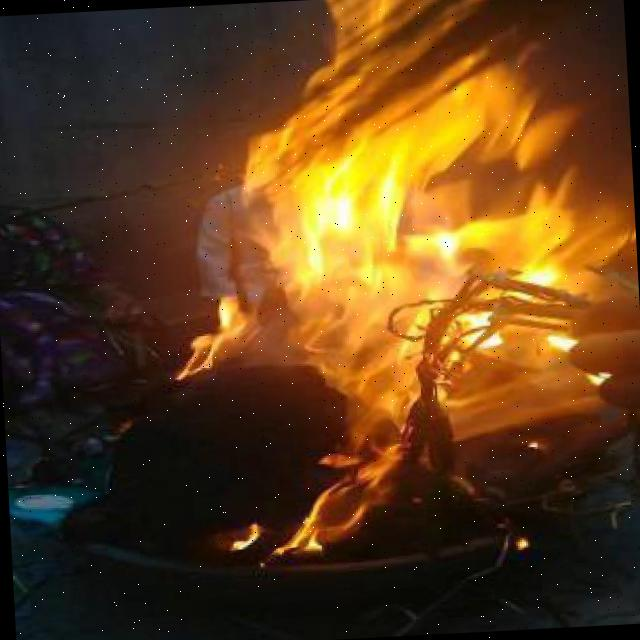fire: (194, 0, 632, 550)
